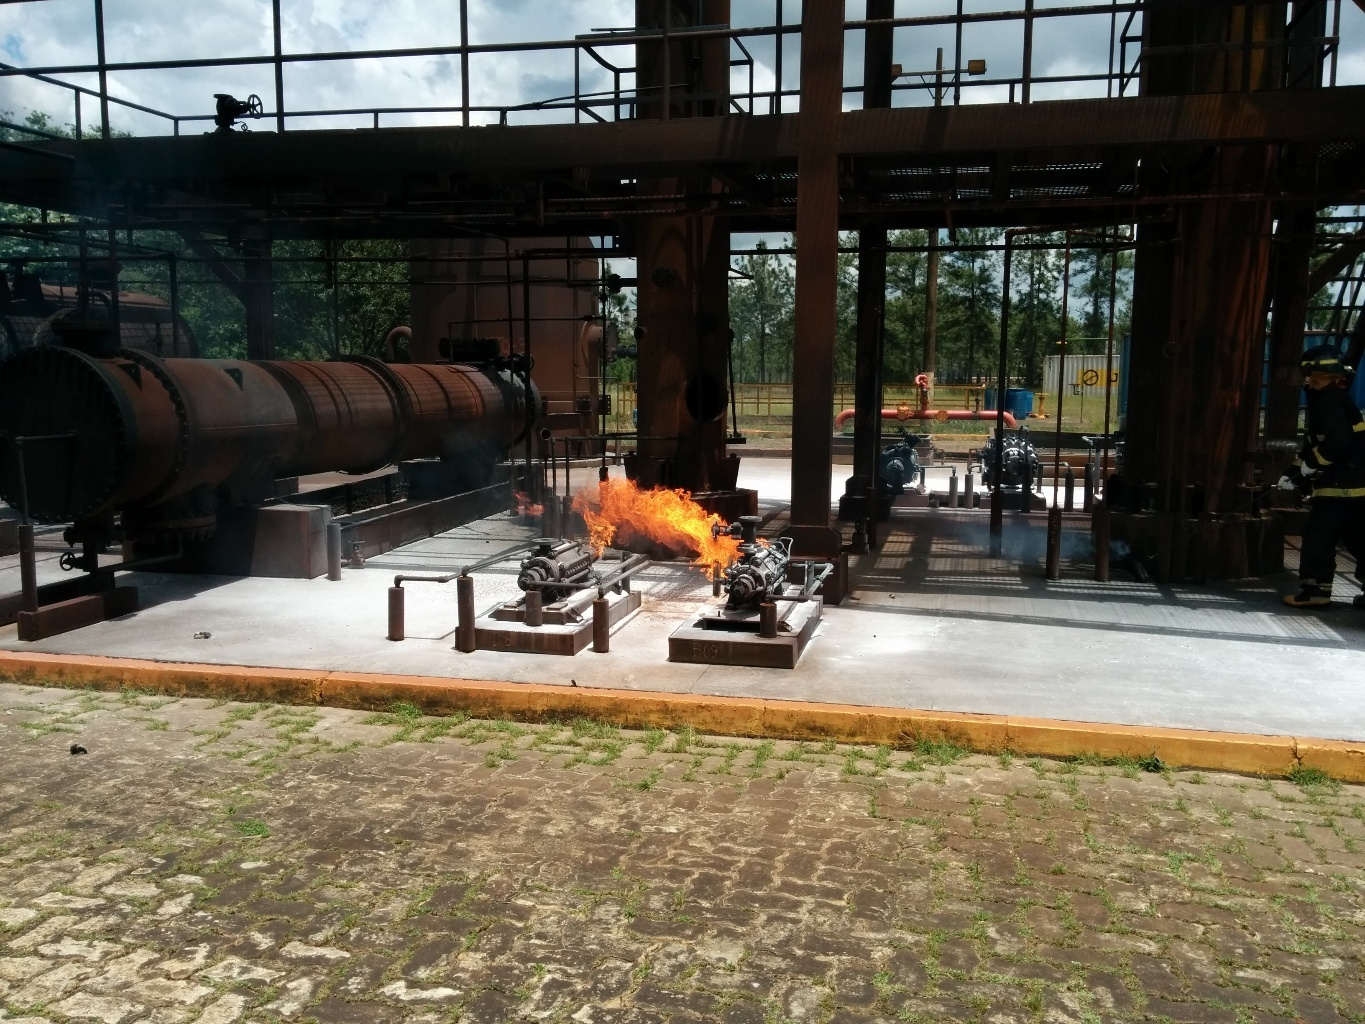fire: (574, 470, 740, 582)
